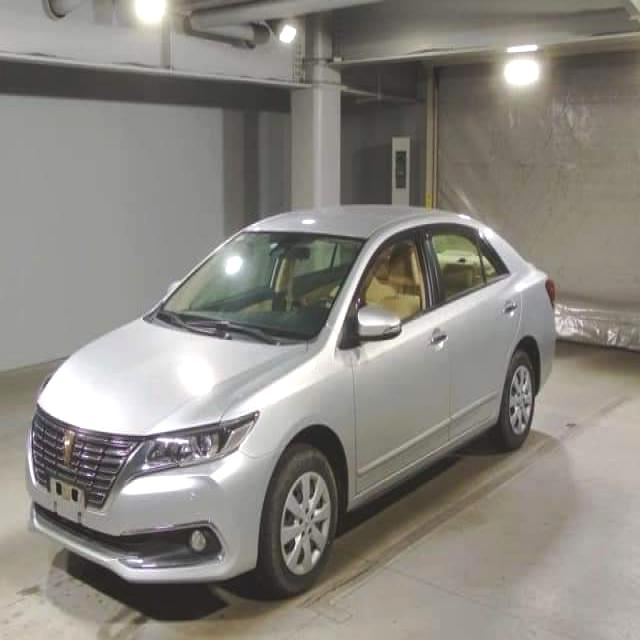silver: (27, 206, 555, 610)
